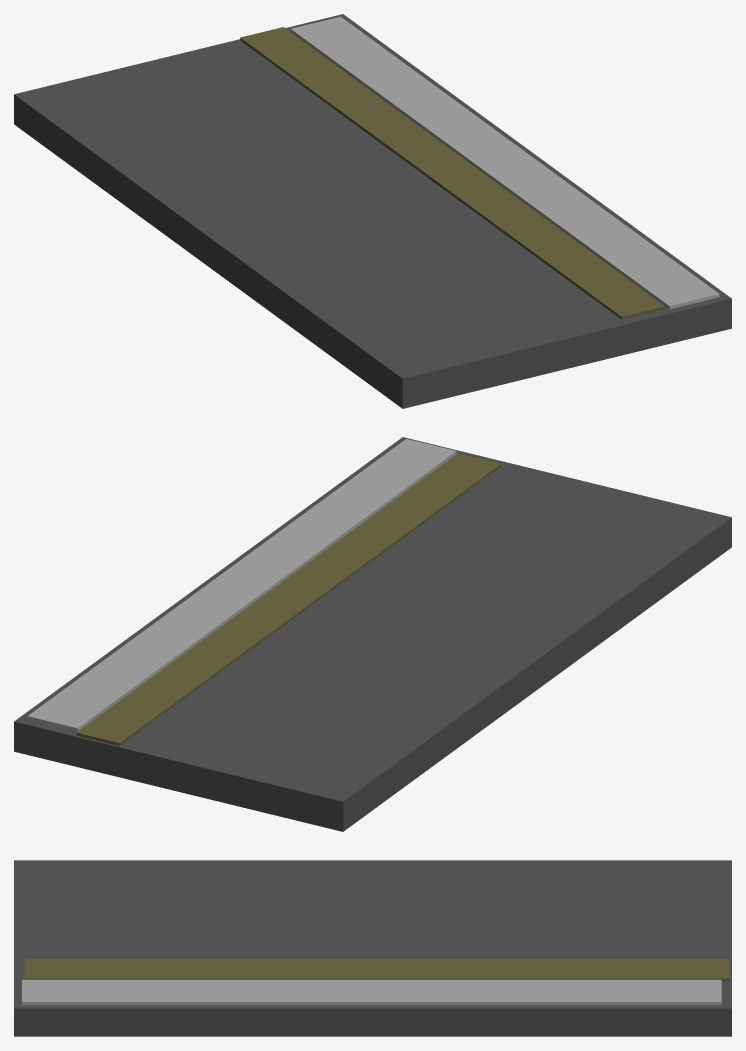
The model's file is StationGround.fbx.
The picture shows the model from 3 angles, top to bottom: view 1: azimuth 30°, elevation 25°; view 2: azimuth 150°, elevation 25°; view 3: azimuth 270°, elevation 25°; orthographic projection. The views are drawn at different scales.
Parts seen in each view (by area): view 1: polySurface15; view 2: polySurface15; view 3: polySurface15.
Boxes of the visible parts, left/top/right/bottom form: polySurface15: left=14, top=14, right=731, bottom=408; polySurface15: left=14, top=437, right=731, bottom=831; polySurface15: left=14, top=860, right=731, bottom=1036.
Bounding box in the file's own units: 0.1146 × 0.0111 × 0.2345.
